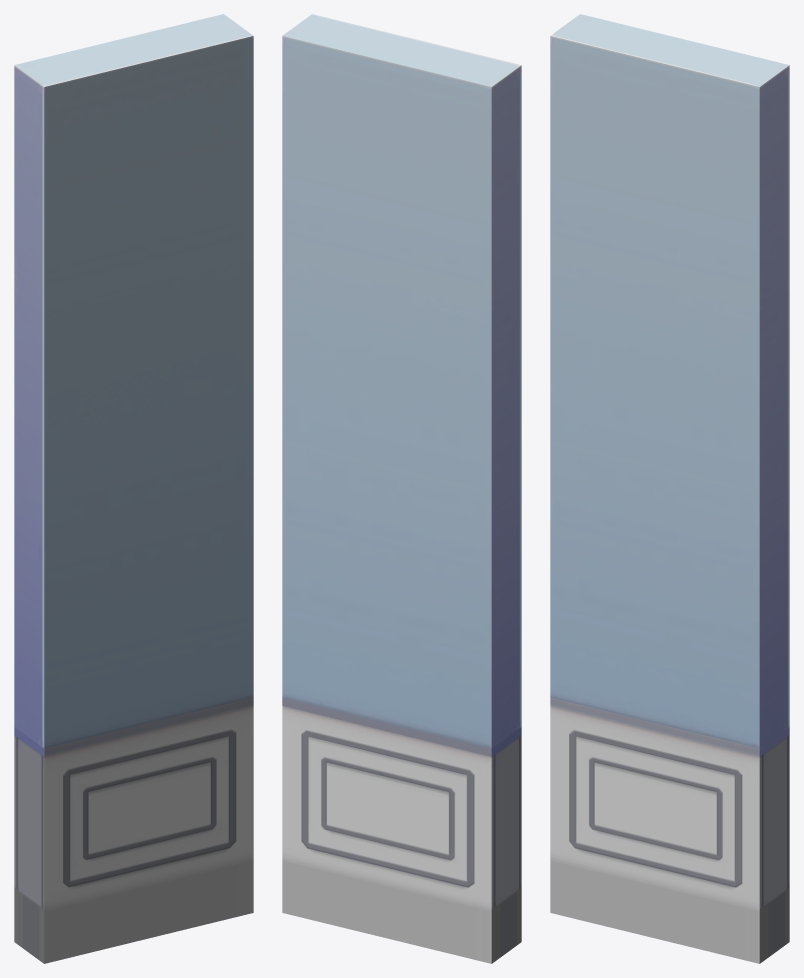
The model's file is my_cafe_01_b_wall_left.glb.
3 renders of one model, left to right at view 1: azimuth 30°, elevation 25°; view 2: azimuth 150°, elevation 25°; view 3: azimuth 330°, elevation 25°, orthographic.
Visible parts, largest first — view 1: my_cafe_01_b_wall_left; view 2: my_cafe_01_b_wall_left; view 3: my_cafe_01_b_wall_left.
Boxes of the visible parts, x1=… form: my_cafe_01_b_wall_left: x1=14, y1=14, x2=253, y2=963; my_cafe_01_b_wall_left: x1=282, y1=14, x2=521, y2=963; my_cafe_01_b_wall_left: x1=550, y1=14, x2=789, y2=963.
Size of the model in its own units: 0.012 by 0.048 by 0.00297.
1 material, 1 textured.
